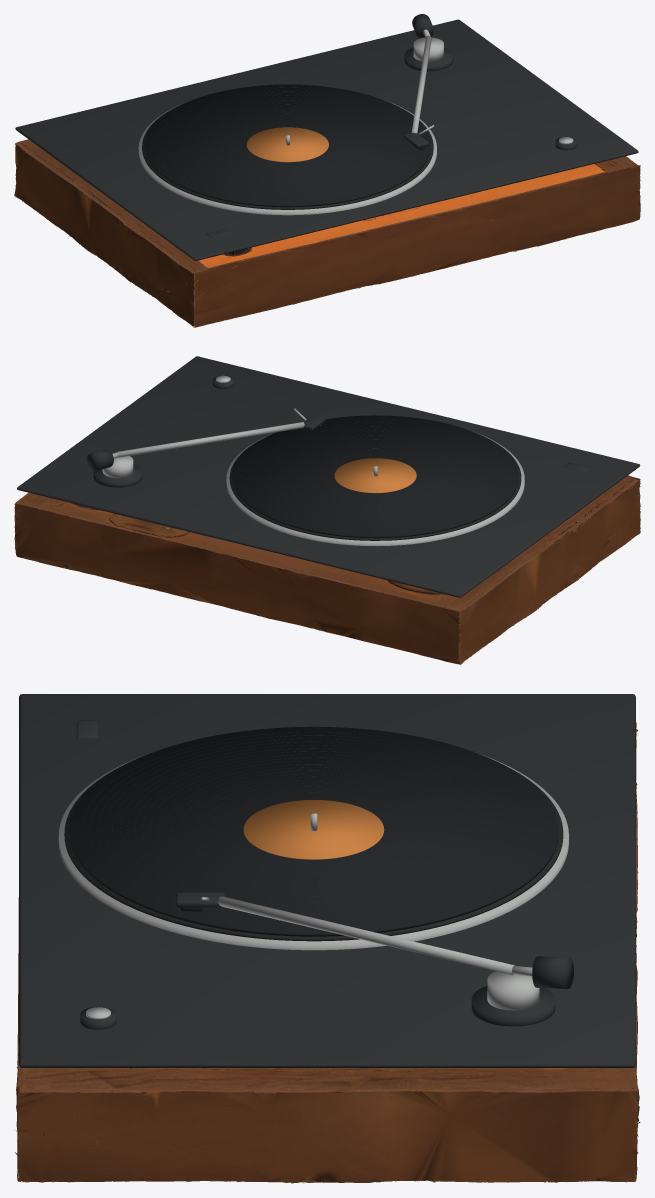
The model's file is turntable-packed.glb.
3 views of the same model, one above another, from view 1: azimuth 30°, elevation 25°; view 2: azimuth 150°, elevation 25°; view 3: azimuth 270°, elevation 25° (orthographic). The views are drawn at different scales.
Visible parts, largest first — view 1: Machined top plate, turntable_body, record_disc, Machined platter, tonearm, Rubber platter mat, Tonearm bearing plinth, Tonearm bearing; view 2: Machined top plate, turntable_body, record_disc, Machined platter, tonearm, Rubber platter mat, Tonearm bearing plinth, Tonearm bearing; view 3: Machined top plate, record_disc, turntable_body, Machined platter, tonearm, Rubber platter mat, Tonearm bearing plinth, Tonearm bearing.
Boxes of the visible parts, x1=… form: Machined top plate: x1=15, y1=19, x2=638, y2=260; turntable_body: x1=14, y1=139, x2=640, y2=327; record_disc: x1=144, y1=84, x2=430, y2=207; Machined platter: x1=138, y1=100, x2=436, y2=215; tonearm: x1=403, y1=14, x2=434, y2=150; Rubber platter mat: x1=142, y1=108, x2=433, y2=209; Tonearm bearing plinth: x1=404, y1=47, x2=453, y2=71; Tonearm bearing: x1=413, y1=37, x2=443, y2=61; Machined top plate: x1=17, y1=356, x2=640, y2=597; turntable_body: x1=14, y1=475, x2=640, y2=664; record_disc: x1=232, y1=415, x2=518, y2=538; Machined platter: x1=226, y1=431, x2=524, y2=546; tonearm: x1=87, y1=408, x2=326, y2=470; Rubber platter mat: x1=229, y1=441, x2=521, y2=540; Tonearm bearing plinth: x1=93, y1=464, x2=142, y2=487; Tonearm bearing: x1=102, y1=456, x2=133, y2=478; Machined top plate: x1=19, y1=694, x2=635, y2=1067; record_disc: x1=69, y1=726, x2=558, y2=936; turntable_body: x1=15, y1=722, x2=640, y2=1183; Machined platter: x1=58, y1=753, x2=568, y2=950; tonearm: x1=176, y1=892, x2=573, y2=988; Rubber platter mat: x1=64, y1=766, x2=563, y2=941; Tonearm bearing plinth: x1=471, y1=986, x2=555, y2=1026; Tonearm bearing: x1=487, y1=971, x2=539, y2=1010.
Size of the model in its own units: 0.7809 by 0.1793 by 0.553.
7 materials, 1 textured.
